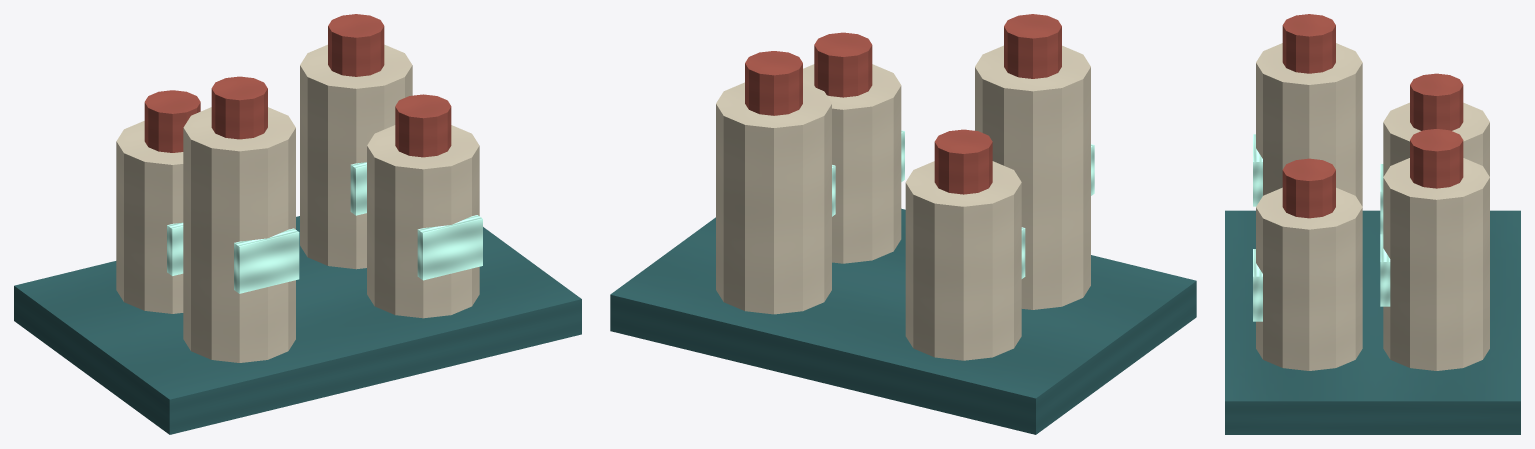
Rendered from atlas100-s031-a04.glb.
3 views of the same model, side by side, from view 1: azimuth 30°, elevation 25°; view 2: azimuth 150°, elevation 25°; view 3: azimuth 270°, elevation 25° (orthographic). The views are drawn at different scales.
Parts seen in each view (by area): view 1: atlas100-s031-a04:part-000, atlas100-s031-a04:part-007, atlas100-s031-a04:part-010, atlas100-s031-a04:part-004, atlas100-s031-a04:part-001, atlas100-s031-a04:part-009, atlas100-s031-a04:part-012, atlas100-s031-a04:part-008, atlas100-s031-a04:part-011, atlas100-s031-a04:part-005, atlas100-s031-a04:part-002, atlas100-s031-a04:part-003 (+1 smaller); view 2: atlas100-s031-a04:part-000, atlas100-s031-a04:part-004, atlas100-s031-a04:part-007, atlas100-s031-a04:part-001, atlas100-s031-a04:part-010, atlas100-s031-a04:part-002, atlas100-s031-a04:part-011, atlas100-s031-a04:part-008, atlas100-s031-a04:part-005; view 3: atlas100-s031-a04:part-000, atlas100-s031-a04:part-004, atlas100-s031-a04:part-010, atlas100-s031-a04:part-007, atlas100-s031-a04:part-001, atlas100-s031-a04:part-008, atlas100-s031-a04:part-005, atlas100-s031-a04:part-011, atlas100-s031-a04:part-002, atlas100-s031-a04:part-006, atlas100-s031-a04:part-012, atlas100-s031-a04:part-009.
Part boxes in pixels (bbox=[...]): atlas100-s031-a04:part-000: bbox=[14, 216, 581, 434]; atlas100-s031-a04:part-007: bbox=[183, 107, 295, 362]; atlas100-s031-a04:part-010: bbox=[367, 125, 479, 318]; atlas100-s031-a04:part-004: bbox=[300, 44, 412, 269]; atlas100-s031-a04:part-001: bbox=[116, 121, 183, 313]; atlas100-s031-a04:part-009: bbox=[234, 228, 299, 293]; atlas100-s031-a04:part-012: bbox=[417, 215, 482, 280]; atlas100-s031-a04:part-008: bbox=[211, 76, 267, 139]; atlas100-s031-a04:part-011: bbox=[395, 94, 451, 157]; atlas100-s031-a04:part-005: bbox=[328, 14, 384, 76]; atlas100-s031-a04:part-002: bbox=[144, 90, 200, 152]; atlas100-s031-a04:part-003: bbox=[167, 222, 183, 275]; atlas100-s031-a04:part-000: bbox=[610, 208, 1196, 434]; atlas100-s031-a04:part-004: bbox=[716, 82, 831, 314]; atlas100-s031-a04:part-007: bbox=[975, 45, 1090, 309]; atlas100-s031-a04:part-001: bbox=[905, 161, 1021, 360]; atlas100-s031-a04:part-010: bbox=[803, 64, 901, 263]; atlas100-s031-a04:part-002: bbox=[934, 129, 992, 194]; atlas100-s031-a04:part-011: bbox=[814, 32, 872, 97]; atlas100-s031-a04:part-008: bbox=[1004, 14, 1061, 78]; atlas100-s031-a04:part-005: bbox=[745, 51, 802, 115]; atlas100-s031-a04:part-000: bbox=[1225, 210, 1520, 434]; atlas100-s031-a04:part-004: bbox=[1383, 158, 1489, 370]; atlas100-s031-a04:part-010: bbox=[1256, 187, 1362, 370]; atlas100-s031-a04:part-007: bbox=[1256, 43, 1362, 206]; atlas100-s031-a04:part-001: bbox=[1383, 102, 1489, 176]; atlas100-s031-a04:part-008: bbox=[1282, 14, 1335, 73]; atlas100-s031-a04:part-005: bbox=[1410, 129, 1463, 188]; atlas100-s031-a04:part-011: bbox=[1282, 158, 1335, 218]; atlas100-s031-a04:part-002: bbox=[1410, 73, 1463, 130]; atlas100-s031-a04:part-006: bbox=[1380, 234, 1390, 306]; atlas100-s031-a04:part-012: bbox=[1253, 249, 1262, 321]; atlas100-s031-a04:part-009: bbox=[1253, 134, 1262, 206].
Bounding box in the file's own units: 1.18 × 0.7804 × 0.7697.
Materials: 4 (4 with a texture image).
